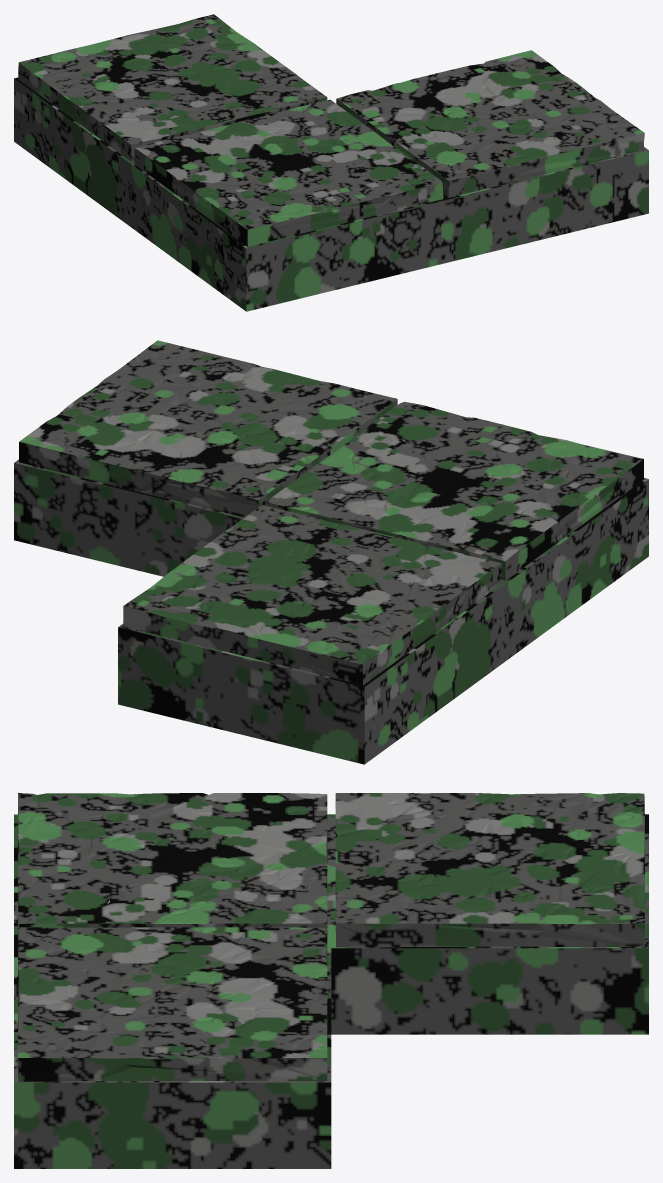
Rendered from floor_1x2_corner.fbx.
3 views of the same model, one above another, from view 1: azimuth 30°, elevation 25°; view 2: azimuth 150°, elevation 25°; view 3: azimuth 270°, elevation 25° (orthographic). The views are drawn at different scales.
Parts seen in each view (by area): view 1: Sewer Floor 1X2X1 Corner; view 2: Sewer Floor 1X2X1 Corner; view 3: Sewer Floor 1X2X1 Corner.
Part boxes in pixels (x1=…): Sewer Floor 1X2X1 Corner: x1=14, y1=14, x2=648, y2=311; Sewer Floor 1X2X1 Corner: x1=14, y1=340, x2=648, y2=764; Sewer Floor 1X2X1 Corner: x1=14, y1=793, x2=648, y2=1168.
Size of the model in its own units: 5000 by 950 by 5000.
Materials: 1 (1 with a texture image).
